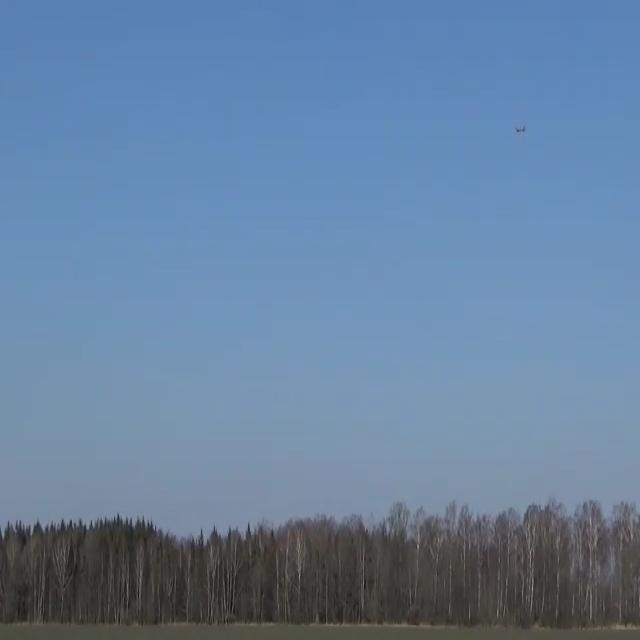Drone: (486, 98, 552, 156)
